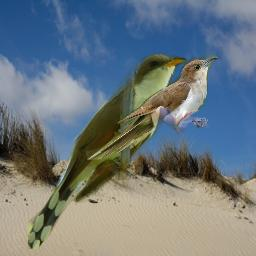Cuckoo: (28, 54, 187, 249), (86, 55, 218, 160)
